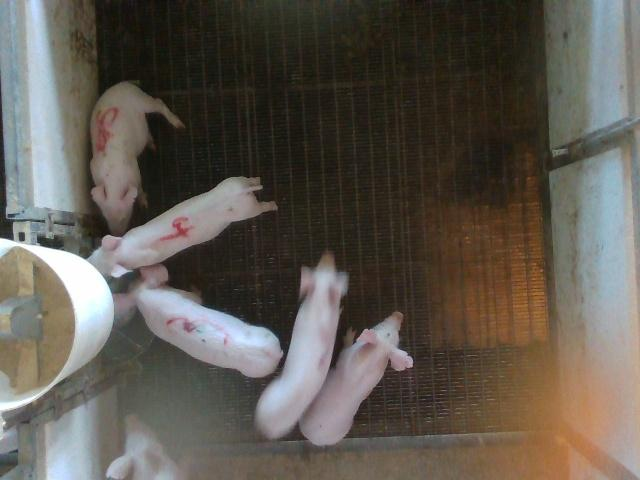pig-2: (256, 251, 349, 438)
pig-3: (112, 264, 282, 378)
pig-4: (89, 178, 278, 277)
pig-5: (90, 81, 182, 236)
